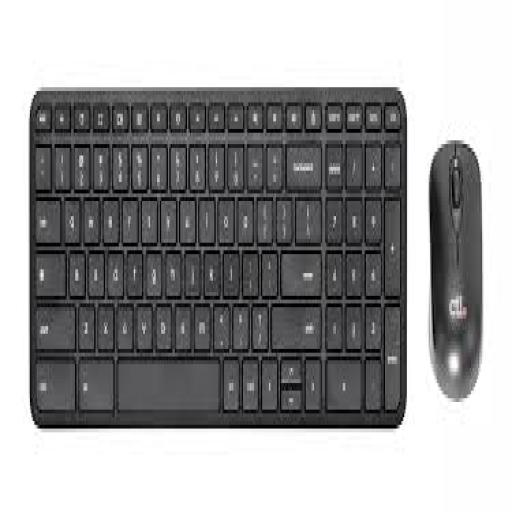KEYBOARD-2: (29, 87, 406, 421)
